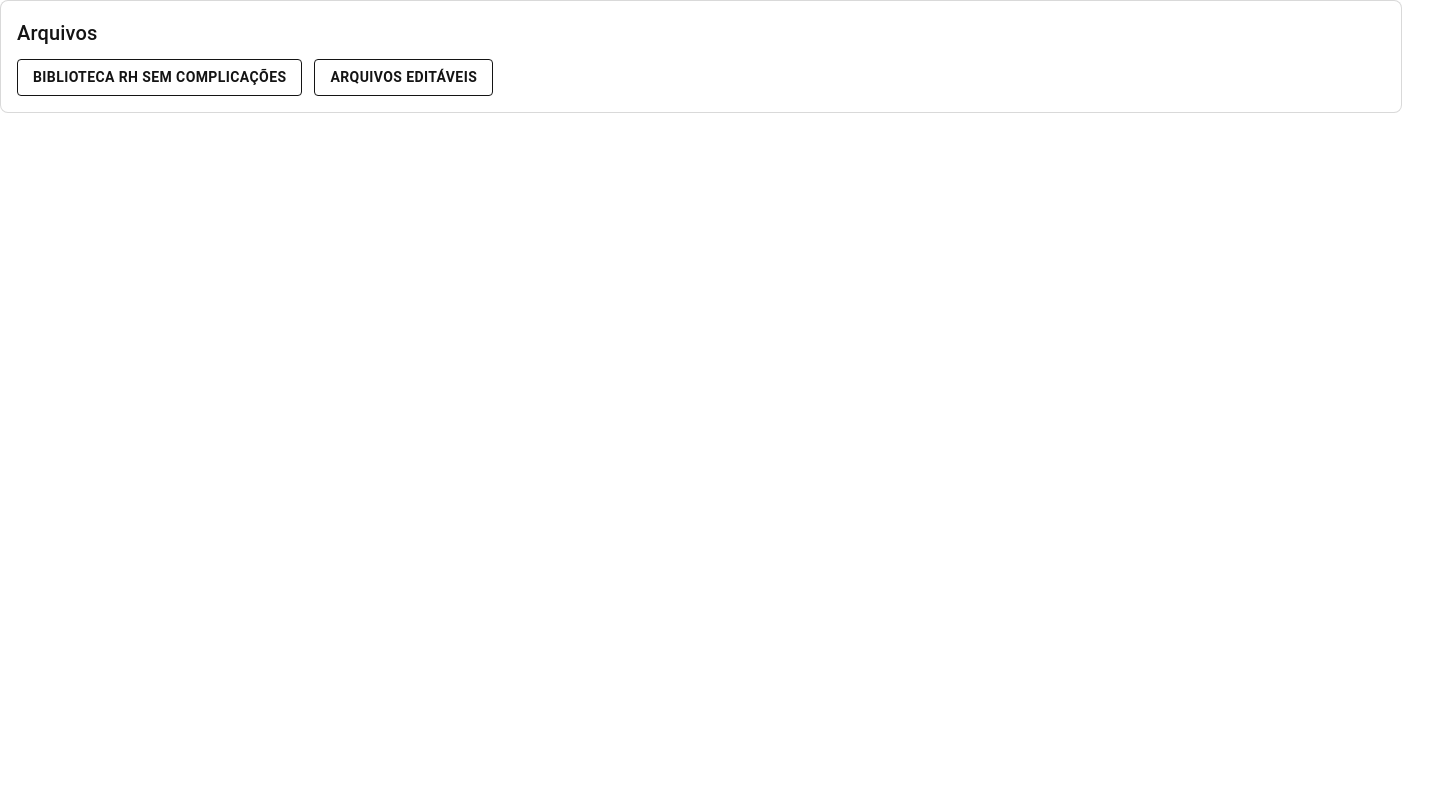
Test: reports an unidentified client inside the library modal (null)
Expected: the button "Arquivos Editáveis" is enabled, [314,59,493,96]
Click the button "Biblioteca RH sem Complicações": (160, 77) [17,59,302,96]
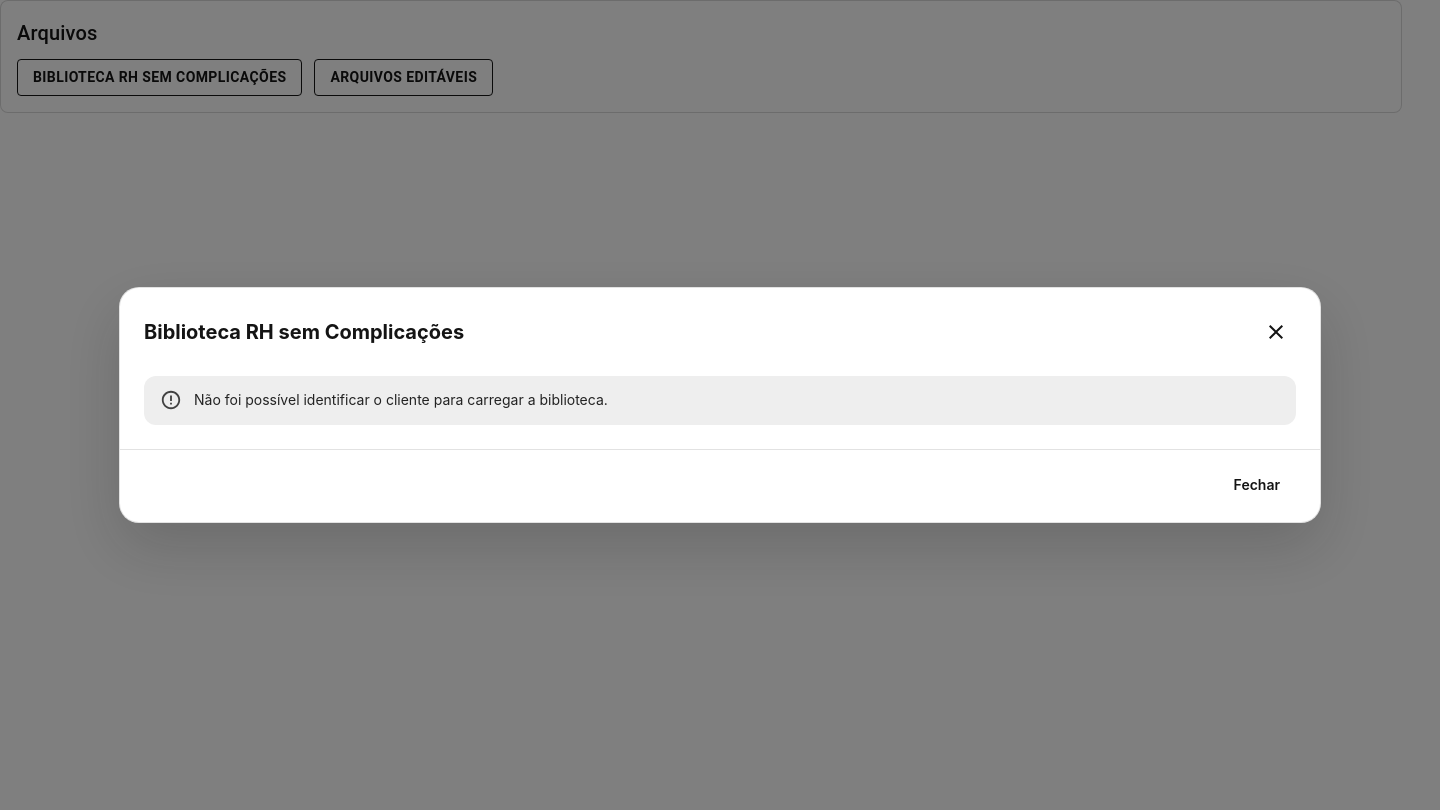
Now the message reads "Não foi possível identificar o cliente para carregar a biblioteca.", box [194,392,608,408]
